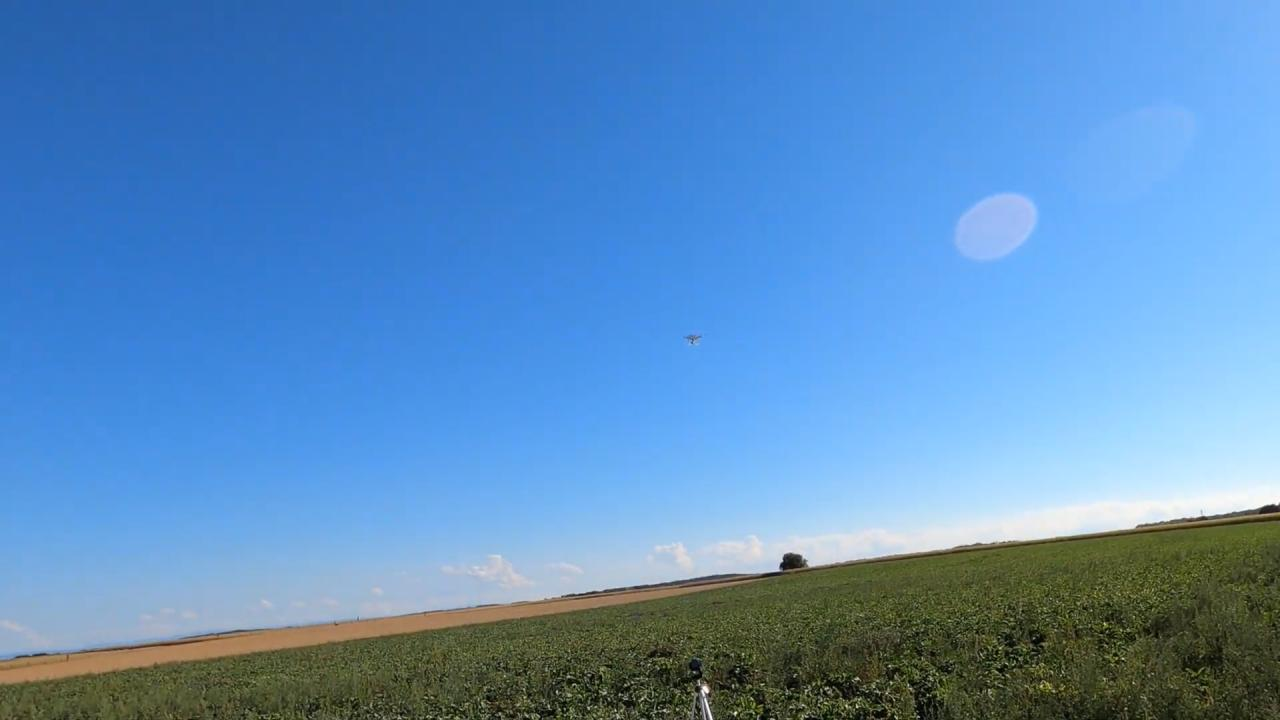Drone: (678, 327, 714, 358)
